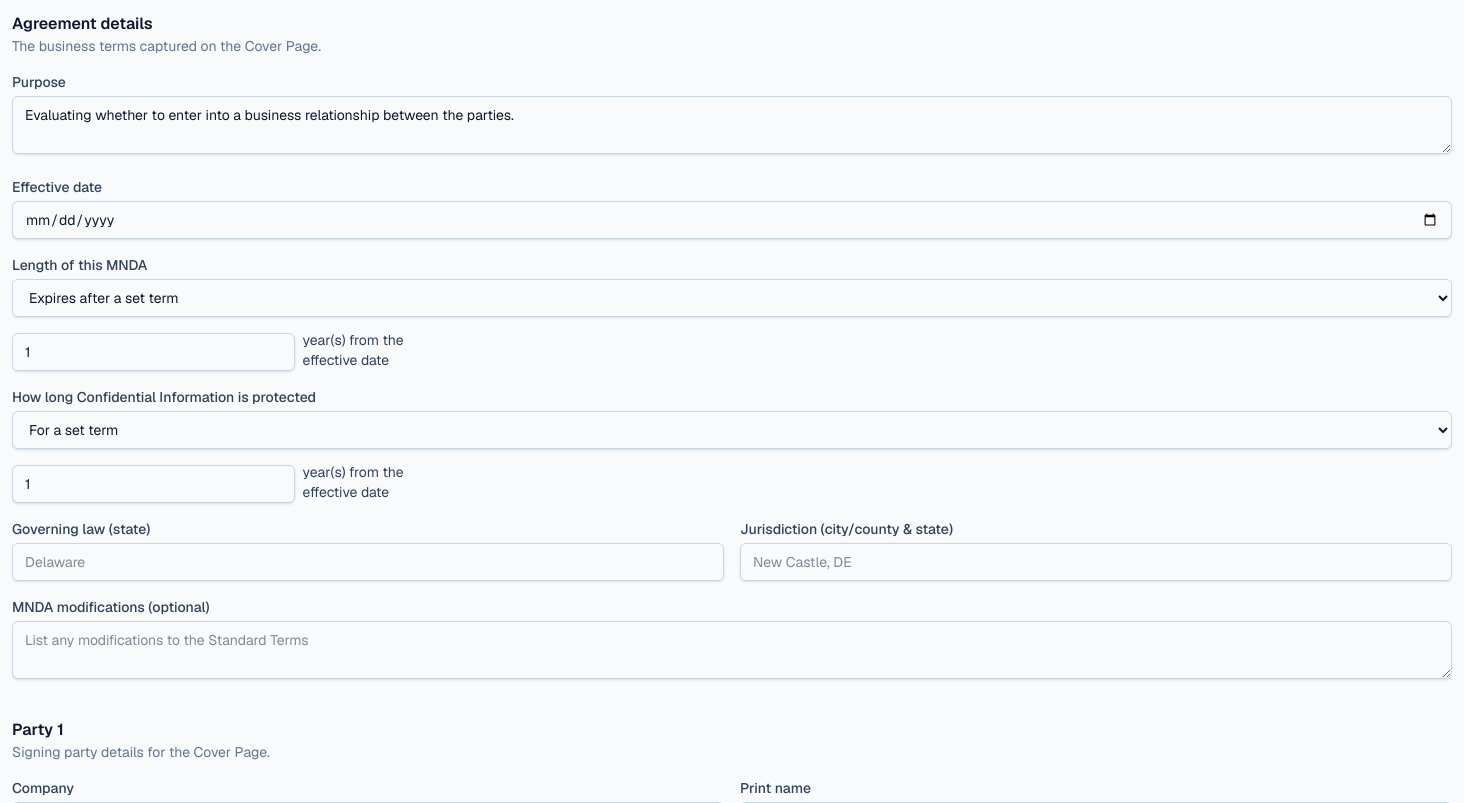
Test: NdaForm › shows a year input for a fixed MNDA term and hides it when until-terminated
The image size is (1464, 803).
expect the number of number fields is 2: met, box x1=12 y1=333 x2=294 y2=371; x1=12 y1=465 x2=294 y2=503
Select "Continues until terminated" in the dropdown labelled "Length of this MNDA": [732, 298] box x1=12 y1=279 x2=1452 y2=317
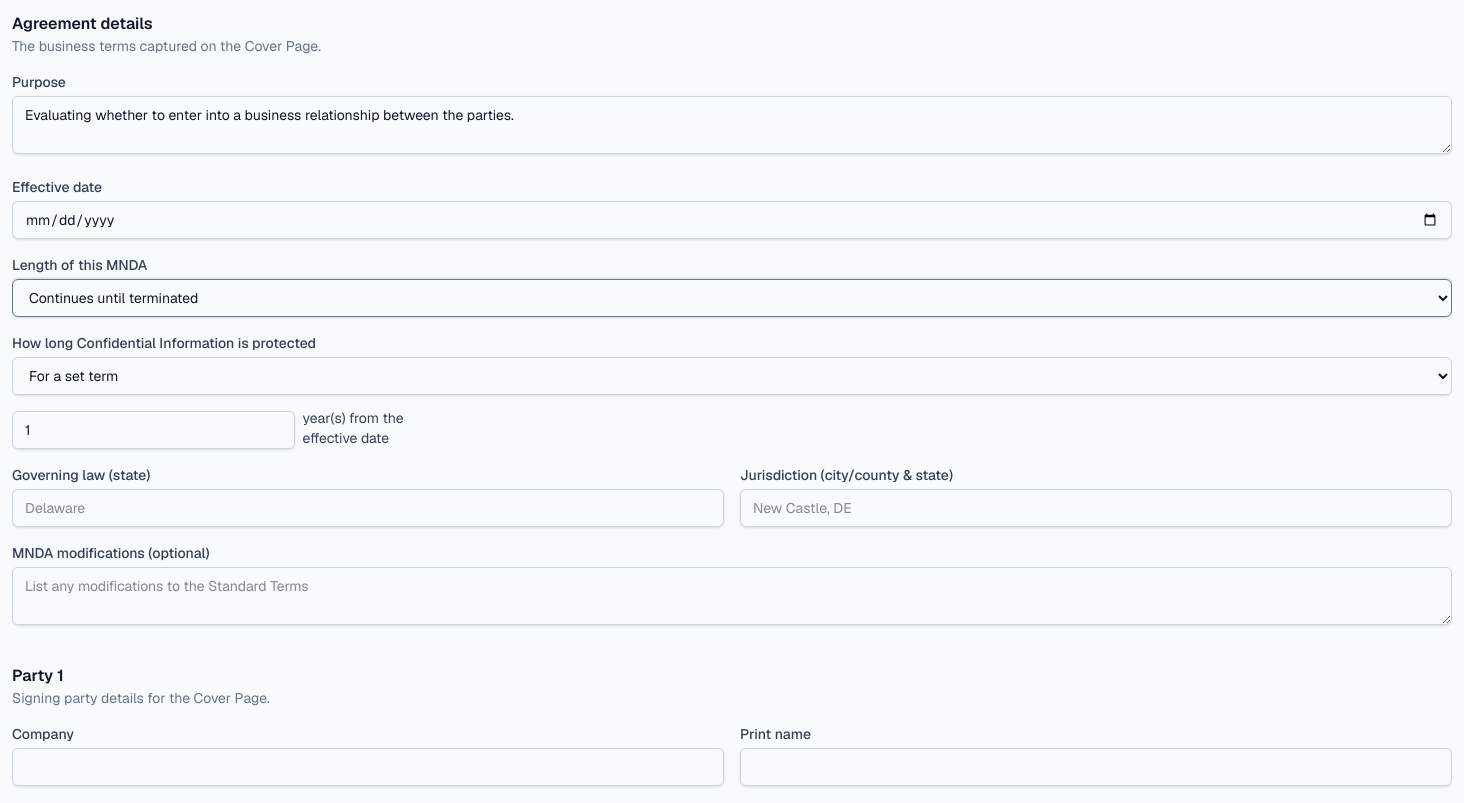
expect the number of number fields is 1: met, box x1=12 y1=411 x2=294 y2=449
